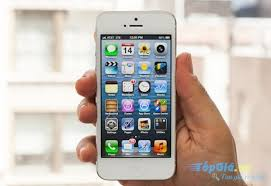iphone5: (91, 7, 180, 181)
